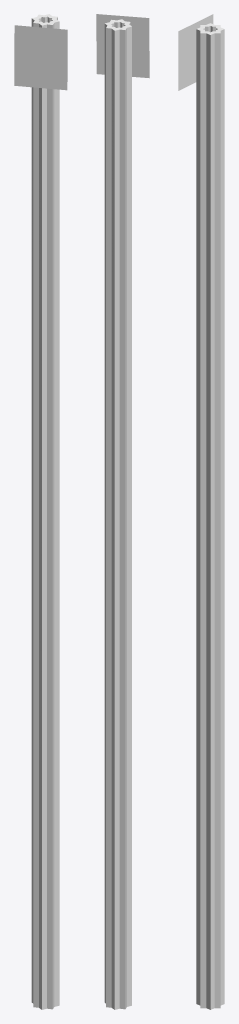
Rendered from PlinthMoment_Animations_SacredLight.fbx.
The picture shows the model from 3 angles, left to right: view 1: azimuth 30°, elevation 25°; view 2: azimuth 210°, elevation 25°; view 3: azimuth 270°, elevation 25°; orthographic projection.
Parts seen in each view (by area): view 1: starPlinthGlow, glow; view 2: starPlinthGlow, glow; view 3: starPlinthGlow, glow.
Part boxes in pixels (x1=…): starPlinthGlow: x1=31, y1=14, x2=59, y2=1009; glow: x1=14, y1=25, x2=67, y2=90; starPlinthGlow: x1=104, y1=19, x2=131, y2=1009; glow: x1=96, y1=14, x2=149, y2=78; starPlinthGlow: x1=196, y1=23, x2=224, y2=1009; glow: x1=178, y1=14, x2=213, y2=90.
Bounding box in the file's own units: 1.3 × 28.8 × 1.24.
